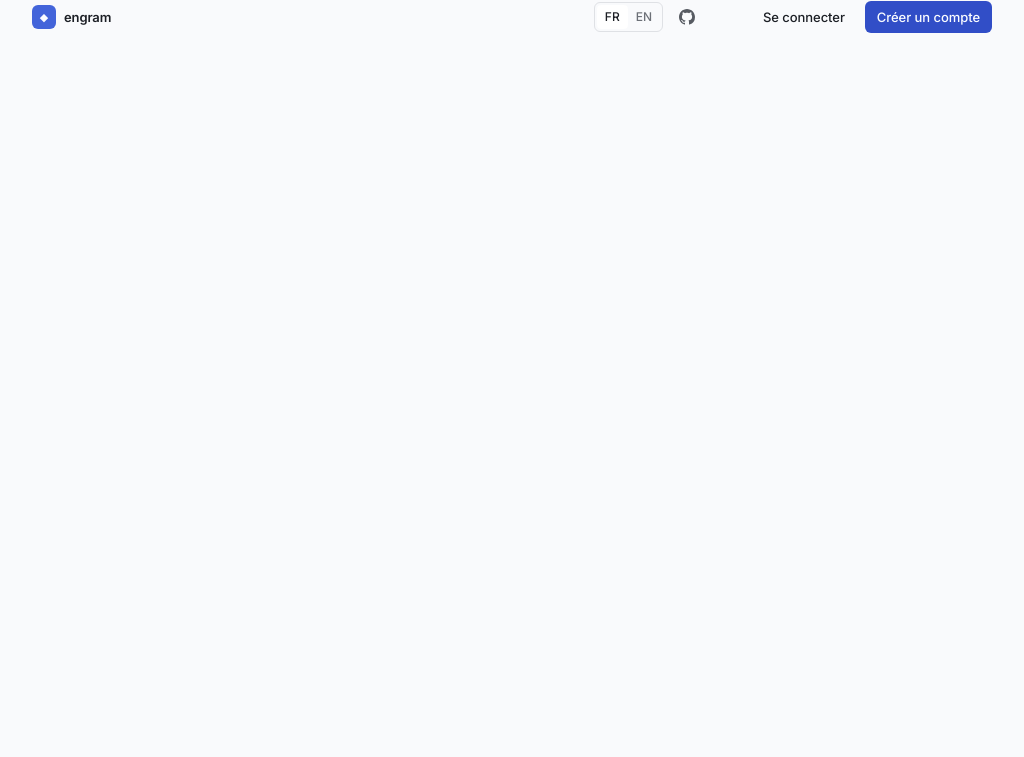
<LandingPage> — provider chips › translates the chips and the caveat to English
The image size is (1024, 757).
Click the button "en" at (644,17), box [628,5,660,29]
(page scrolled)
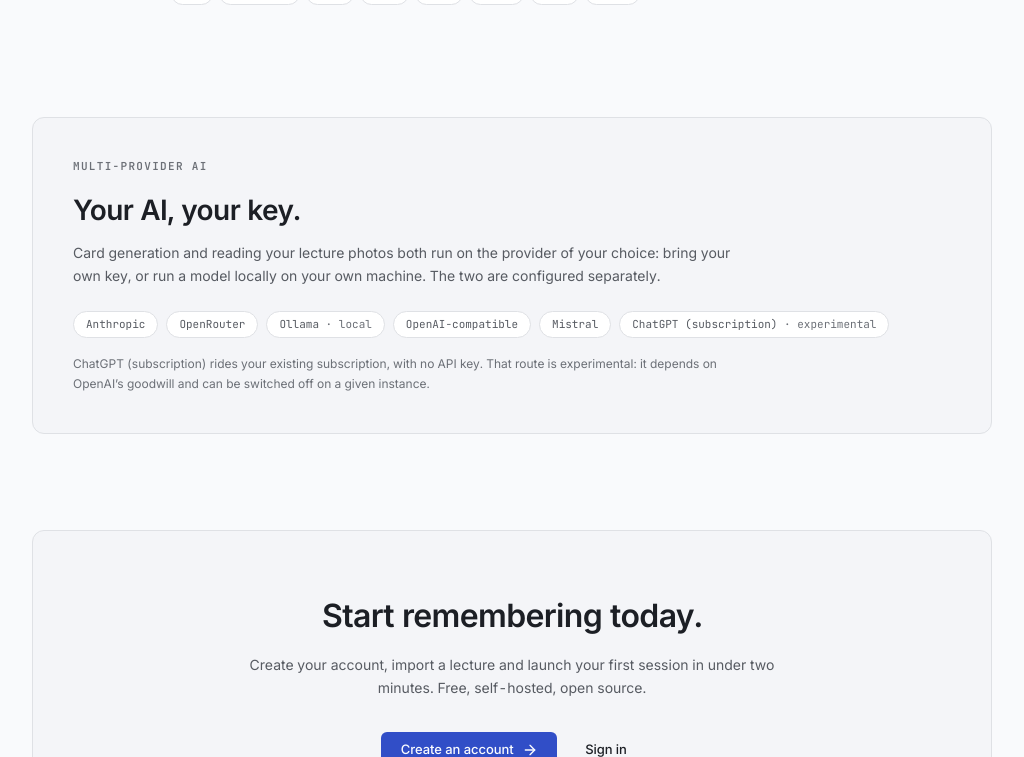
Expected: the text "can be switched off on a given instance" is shown, [73,356,717,391]
